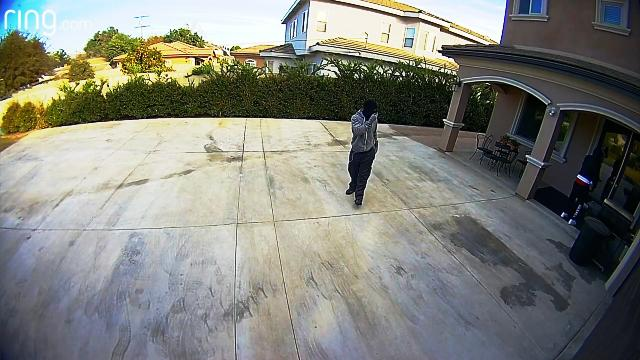berjalan: (347, 97, 383, 209)
